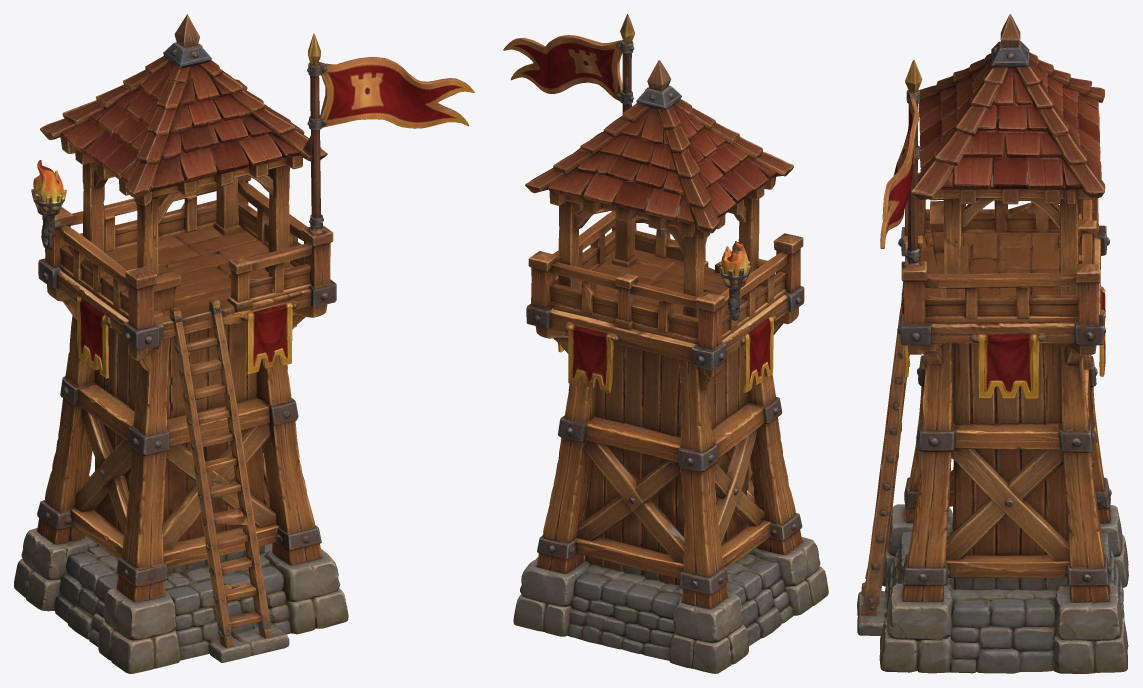
File: bld_watchtower.glb
The picture shows the model from 3 angles, left to right: view 1: azimuth 30°, elevation 25°; view 2: azimuth 150°, elevation 25°; view 3: azimuth 270°, elevation 25°; orthographic projection. The views are drawn at different scales.
Visible parts, largest first — view 1: output_unwrapped; view 2: output_unwrapped; view 3: output_unwrapped.
Boxes of the visible parts, <box> form: output_unwrapped: <box>14,14,474,673</box>; output_unwrapped: <box>503,14,828,673</box>; output_unwrapped: <box>857,14,1128,673</box>.
Size of the model in its own units: 1.19 by 1.9 by 0.7709.
Materials: 1 (1 with a texture image).
